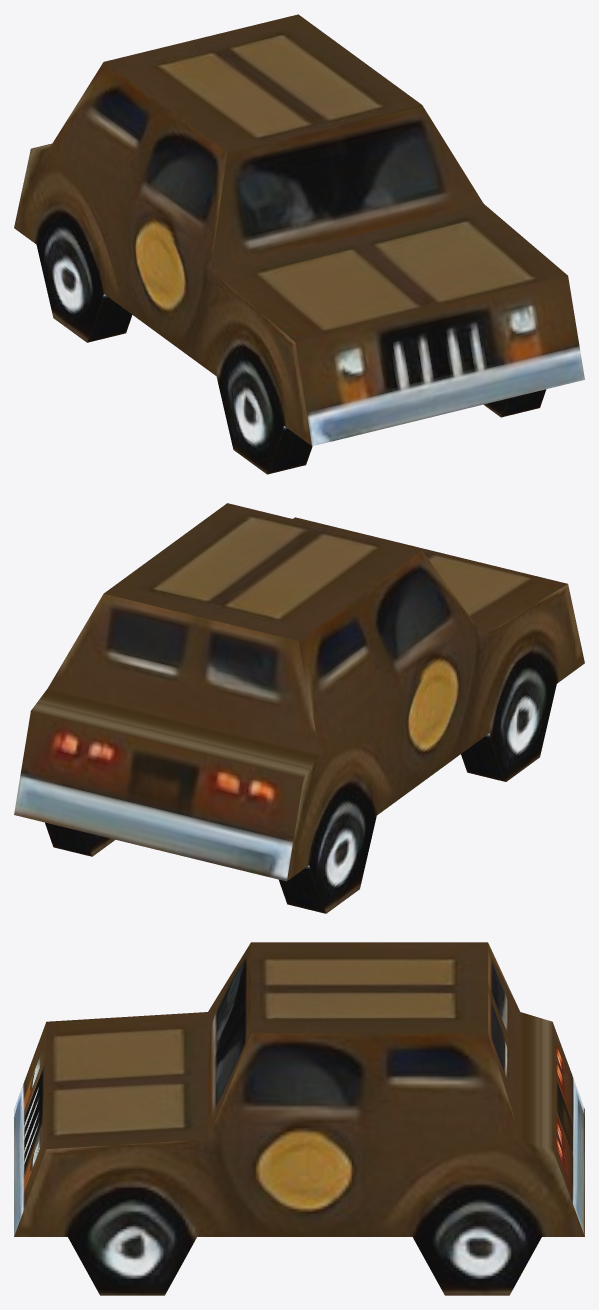
File: jeepprop_hdtex.glb
3 views of the same model, one above another, from view 1: azimuth 30°, elevation 25°; view 2: azimuth 150°, elevation 25°; view 3: azimuth 270°, elevation 25° (orthographic). The views are drawn at different scales.
Visible parts, largest first — view 1: jeep; view 2: jeep; view 3: jeep.
Boxes of the visible parts, left/top/right/bottom form: jeep: left=14, top=14, right=584, bottom=474; jeep: left=14, top=503, right=584, bottom=913; jeep: left=14, top=942, right=584, bottom=1295.
Bounding box in the file's own units: 2.02 × 1.8 × 3.82.
1 material, 1 textured.
